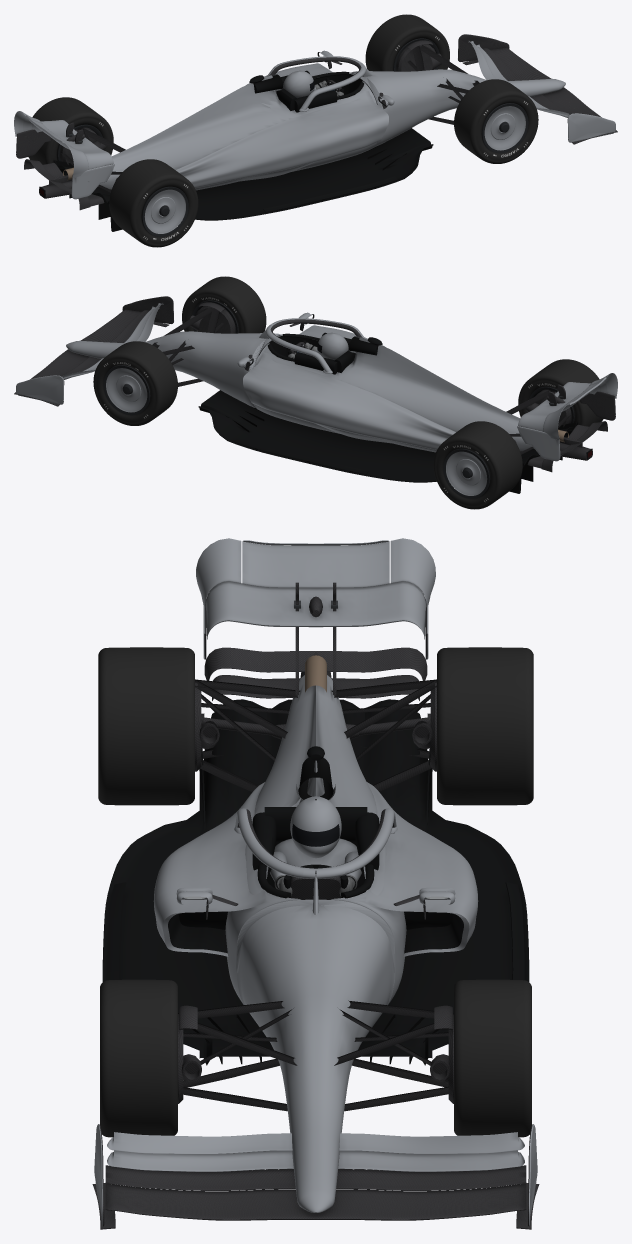
Rendered from car_high.glb.
3 renders of one model, top to bottom at view 1: azimuth 30°, elevation 25°; view 2: azimuth 150°, elevation 25°; view 3: azimuth 270°, elevation 25°, orthographic. The views are drawn at different scales.
Visible parts, largest first — view 1: body, wheel_RR, wheel_FR, wheel_FL, wheel_RL, suspension_links, upright_FL, helmet; view 2: body, wheel_RL, wheel_FL, wheel_FR, wheel_RR, suspension_links, upright_FR, helmet; view 3: body, suspension_links, wheel_RL, wheel_RR, wheel_FL, wheel_FR, drs_flap, helmet, steering_wheel, upright_FL, upright_FR, upright_RL (+1 smaller).
Boxes of the visible parts, box(x1,y1,x2,y2) form: body: box(14, 34, 617, 231); wheel_RR: box(109, 159, 198, 247); wheel_FR: box(454, 79, 538, 163); wheel_FL: box(365, 14, 449, 71); wheel_RL: box(28, 97, 113, 164); suspension_links: box(60, 45, 479, 192); upright_FL: box(396, 40, 441, 71); helmet: box(283, 70, 314, 98); body: box(14, 296, 617, 493); wheel_RL: box(433, 421, 522, 509); wheel_FL: box(93, 341, 177, 425); wheel_FR: box(182, 276, 266, 333); wheel_RR: box(518, 359, 603, 426); suspension_links: box(152, 307, 571, 454); upright_FR: box(190, 302, 235, 333); helmet: box(317, 332, 348, 360); body: box(92, 538, 539, 1229); suspension_links: box(178, 679, 453, 1111); wheel_RL: box(437, 647, 533, 805); wheel_RR: box(98, 647, 194, 805); wheel_FL: box(454, 979, 531, 1137); wheel_FR: box(100, 979, 177, 1137); drs_flap: box(242, 540, 389, 587); helmet: box(290, 796, 341, 858); steering_wheel: box(274, 875, 357, 899); upright_FL: box(430, 1005, 453, 1103); upright_FR: box(178, 1005, 201, 1103); upright_RL: box(412, 683, 436, 771).
Size of the model in its own units: 5.54 by 0.979 by 2.04.
16 materials, 5 textured.
